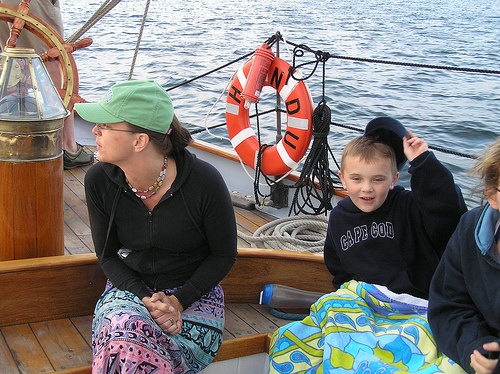head: (93, 91, 174, 165), (335, 134, 404, 217)
person: (243, 118, 468, 373), (81, 73, 238, 372), (428, 118, 499, 374)
